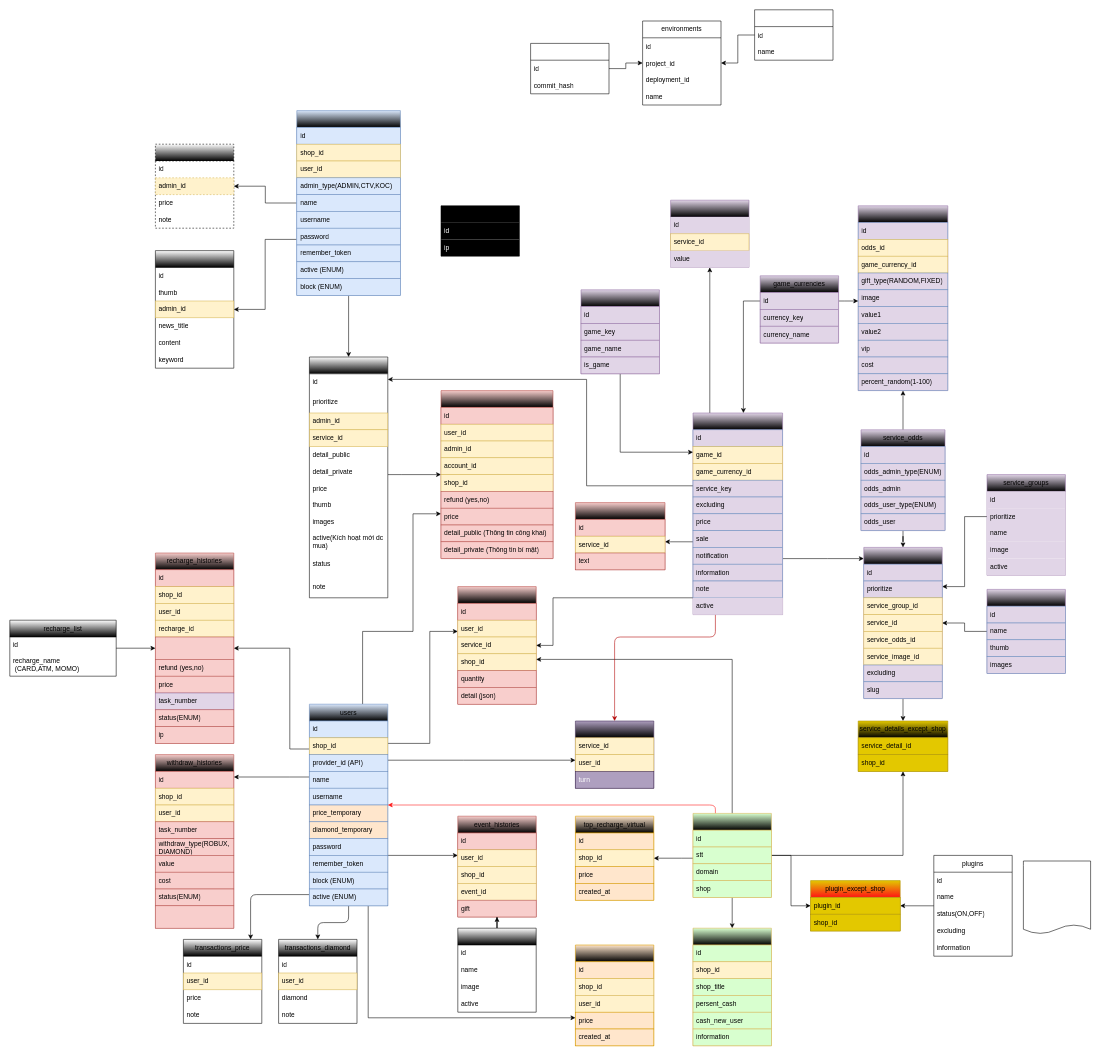
This 1100x1056 diagram has some shape labels left out. The shapes that lost their labels are listed below. From the top down, each one's box as (x1, y1, x2, y2) in pixels, then its label:
(754, 9, 833, 60): projects
(530, 43, 609, 94): deployments
(155, 144, 234, 228): transactions_admin_price
(296, 110, 400, 295): admins
(440, 205, 519, 256): ip_blacklist
(670, 200, 749, 267): services_counters
(155, 250, 234, 368): news_list
(858, 205, 948, 391): service_gifts
(580, 289, 659, 374): games_list
(309, 356, 388, 598): account_list
(440, 390, 553, 559): purchase_histories
(692, 412, 783, 615): services
(575, 502, 665, 570): service_histories_virtrual
(863, 547, 942, 699): service_details
(986, 589, 1065, 673): service_images
(155, 636, 234, 659): detail(JSON) (seri,code, transition,...)
(457, 586, 536, 704): service_histories
(575, 720, 654, 788): service_turns
(692, 813, 771, 897): shop_list
(155, 905, 234, 928): detail (loại rút, link,id game,...)
(1023, 860, 1091, 934): Chứa các thông tin Cost Robux anti ddos blacklist
(457, 928, 536, 1012): event_list
(692, 928, 771, 1046): shop_details
(575, 944, 654, 1046): top_recharges
